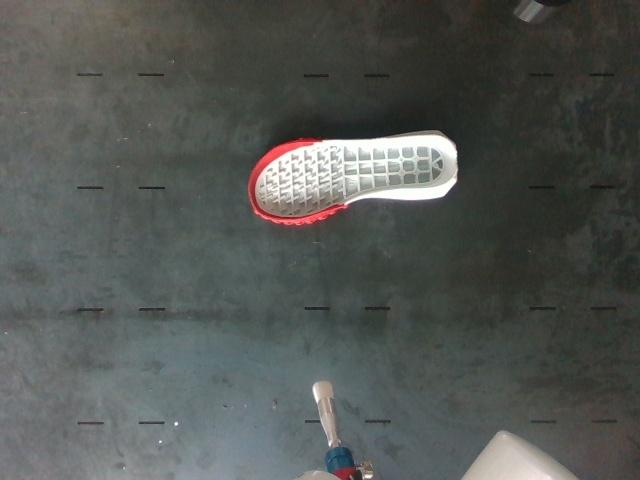shoes: (250, 135, 457, 219)
